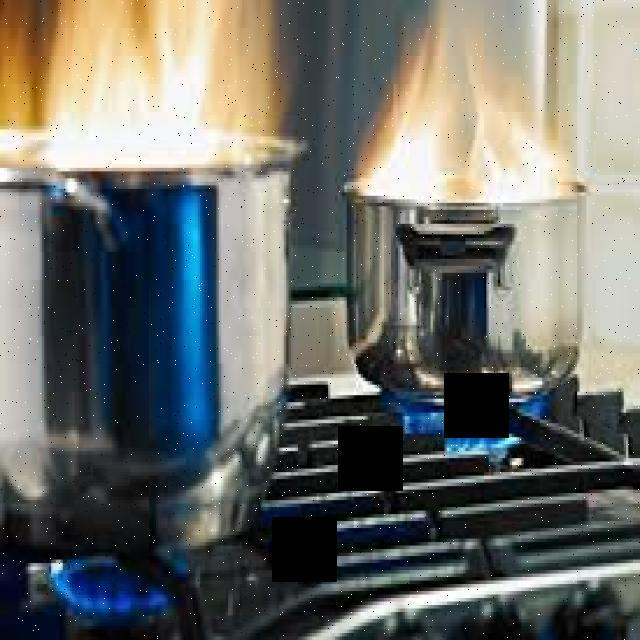Flame: (38, 546, 186, 620), (408, 393, 540, 464)
Pan: (0, 113, 321, 569), (342, 154, 596, 400)
